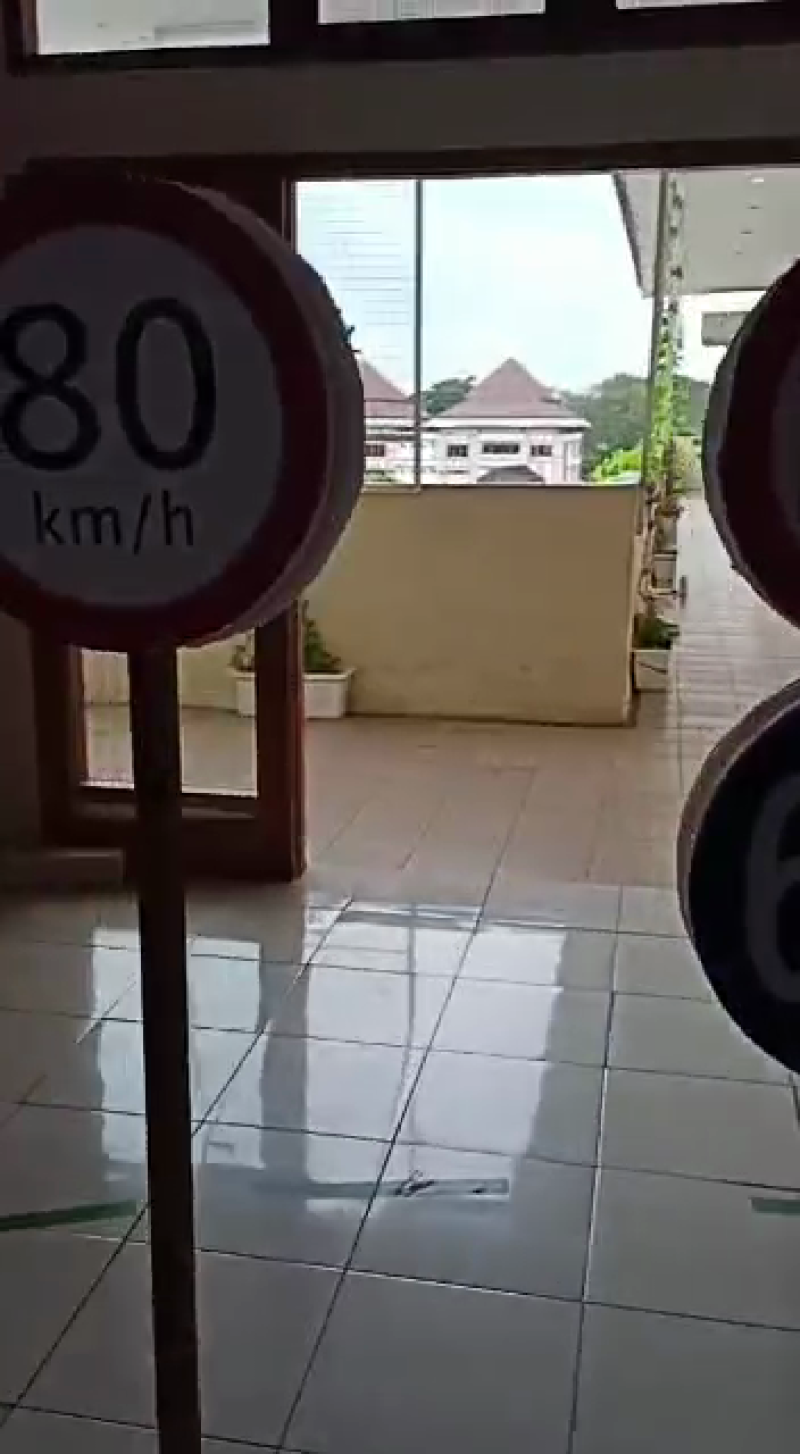batas maksimal 80kmperjam: (1, 160, 366, 676)
